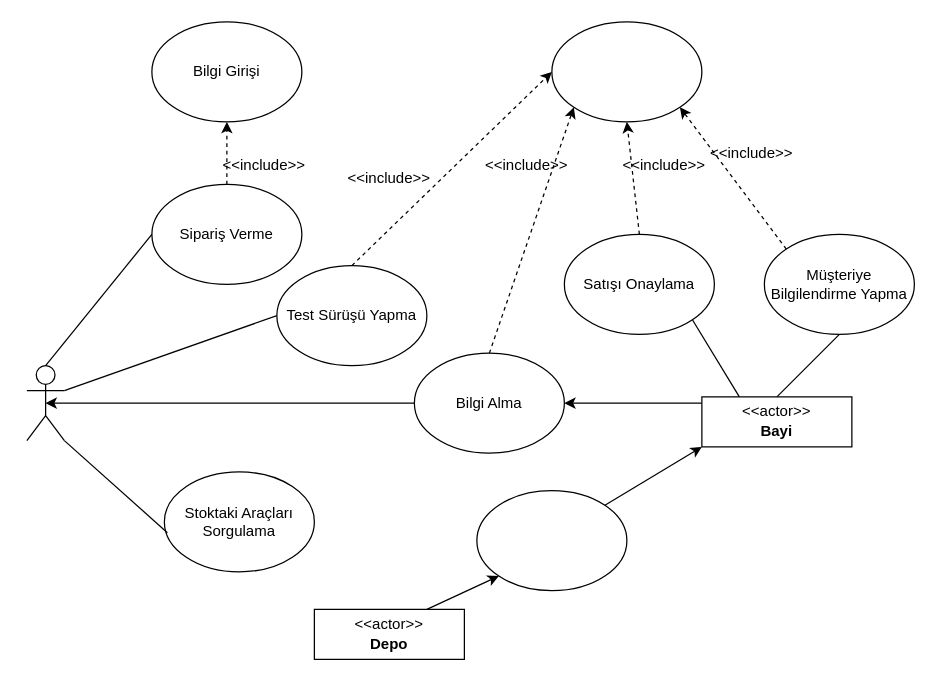
Image size: 936x681. Some labels were removed from this diagram. The shapes that lost their labels are listed below. From the top down, each one's centre as x and y in pixels, then its label:
the point at 626,71: Müşteri Kaydını Güncelleme
the point at 45,402: Müşteri
the point at 551,540: Araç Çekme
